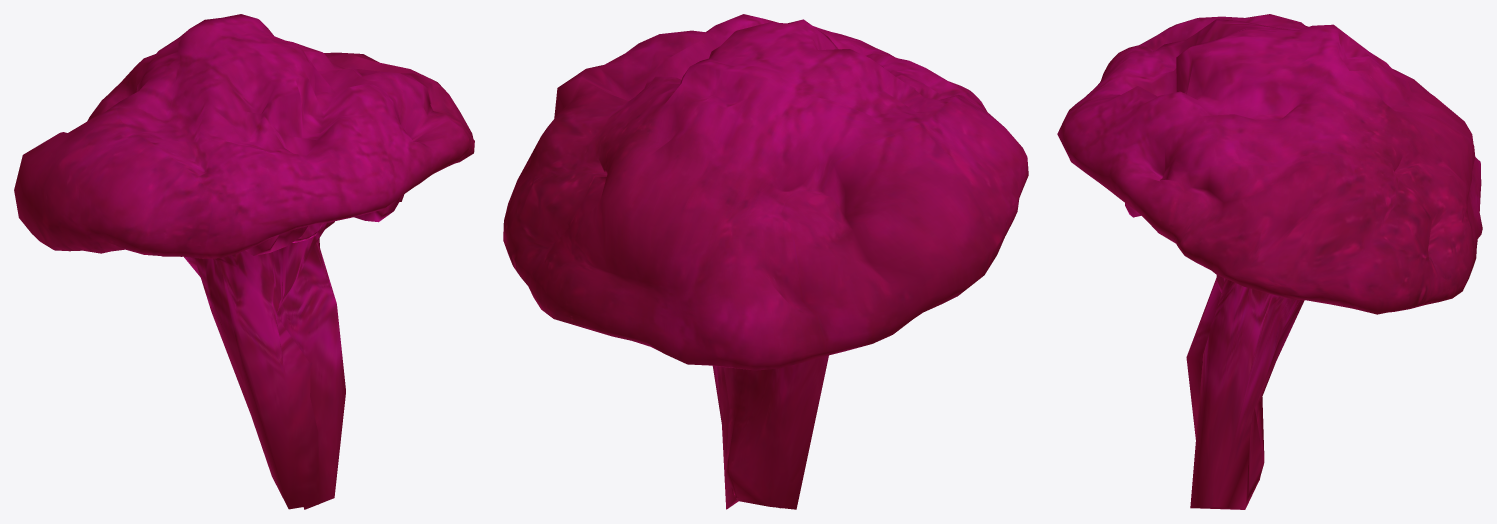
Rendered from magical_mushroom_magenta.glb.
3 renders of one model, left to right at view 1: azimuth 30°, elevation 25°; view 2: azimuth 150°, elevation 25°; view 3: azimuth 270°, elevation 25°, orthographic. The views are drawn at different scales.
Visible parts, largest first — view 1: sphere_Default Material_0; view 2: sphere_Default Material_0; view 3: sphere_Default Material_0.
Boxes of the visible parts, bbox=[...] form: sphere_Default Material_0: bbox=[14, 14, 474, 509]; sphere_Default Material_0: bbox=[503, 14, 1028, 509]; sphere_Default Material_0: bbox=[1057, 14, 1482, 509].
Size of the model in its own units: 211 by 220 by 185.
Materials: 1 (1 with a texture image).
